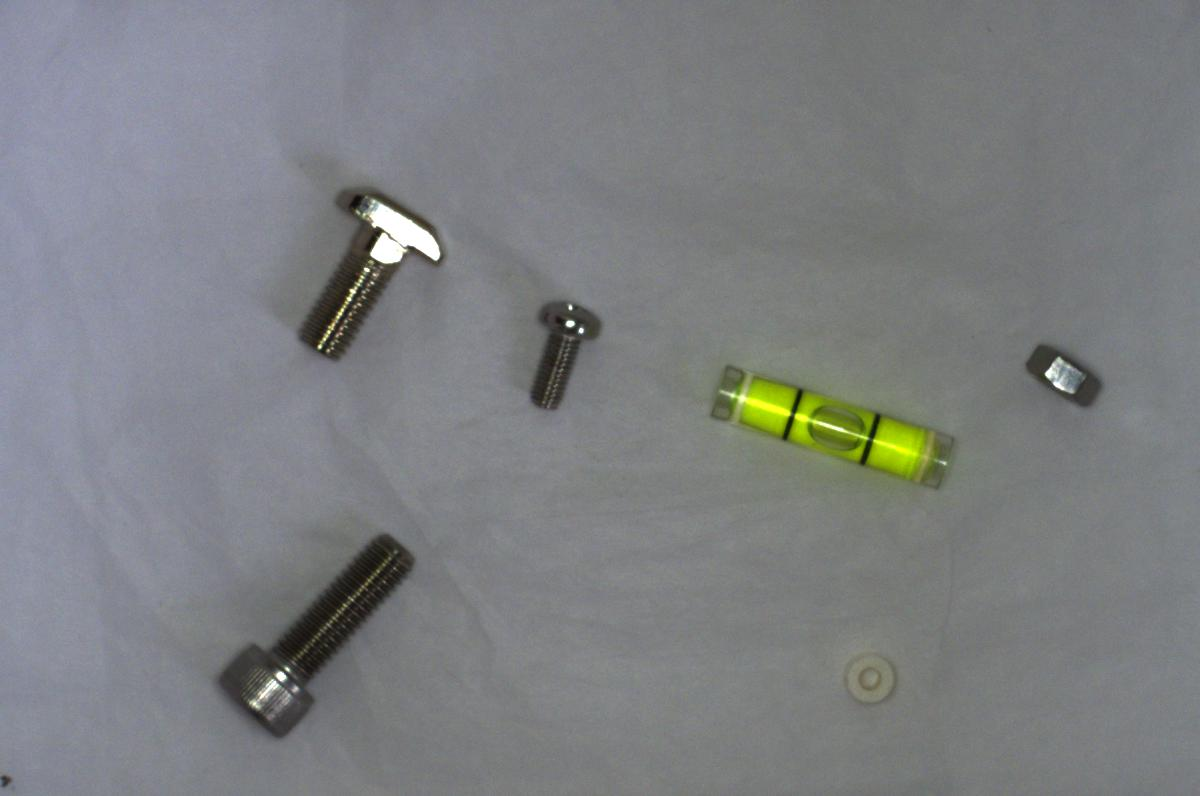Hexagon nut: (1018, 332, 1111, 413)
Hexagon screw: (200, 522, 422, 741)
Horizontal bubble: (697, 356, 960, 493)
Plastic cushion pillar: (835, 646, 902, 710)
Round head screw: (517, 292, 605, 407)
T-shaped screw: (293, 176, 444, 356)
